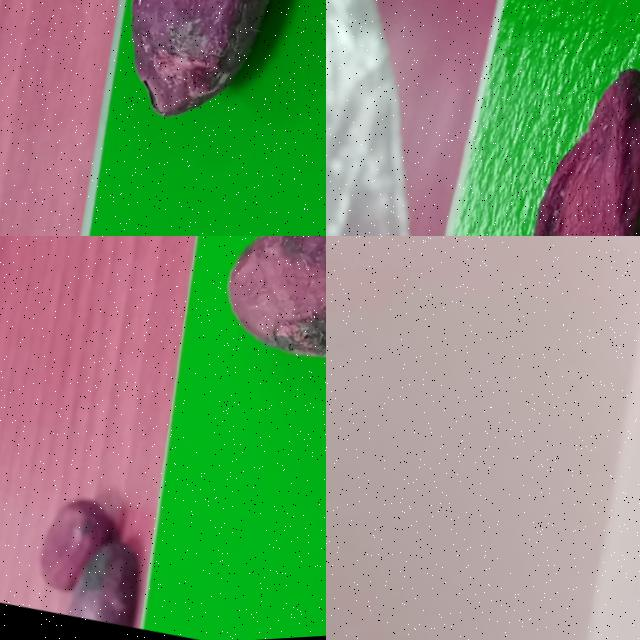Fine_cocoabeans: (33, 0, 325, 218), (169, 236, 325, 460)
Flat_cocoabeans: (436, 4, 639, 235), (563, 241, 639, 639)
